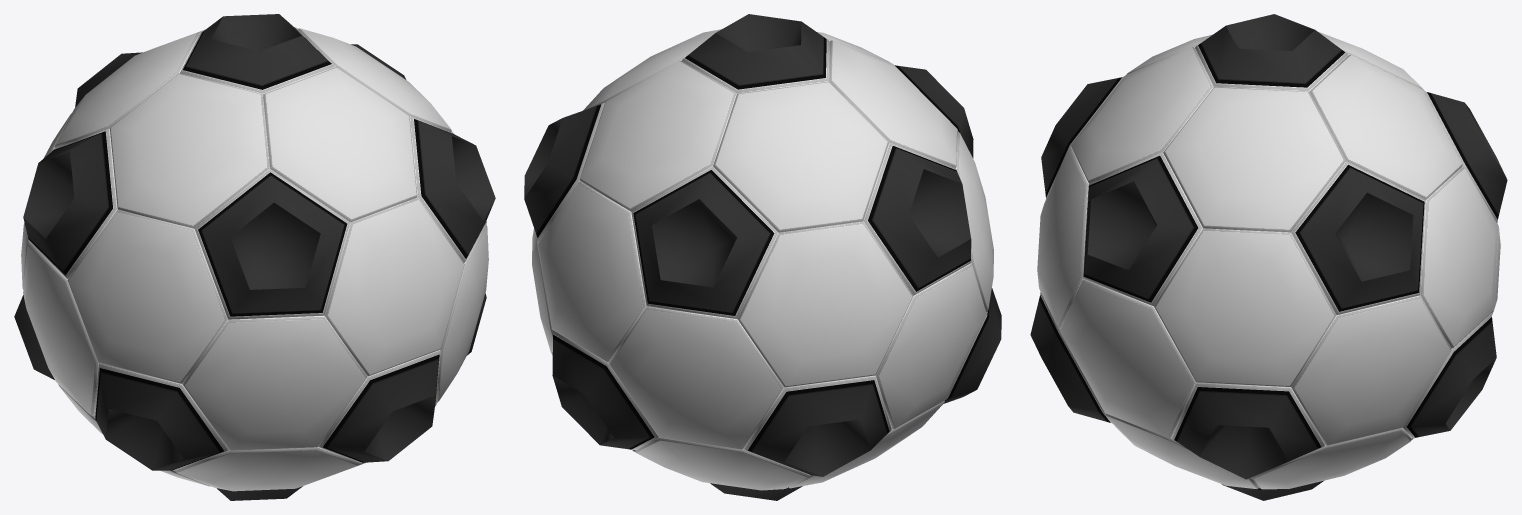
The model's file is ball.glb.
3 renders of one model, left to right at view 1: azimuth 30°, elevation 25°; view 2: azimuth 150°, elevation 25°; view 3: azimuth 270°, elevation 25°, orthographic.
Visible parts, largest first — view 1: ball; view 2: ball; view 3: ball.
Boxes of the visible parts, x1,y1,x2,y2 form: ball: (14, 14, 495, 500); ball: (524, 14, 1001, 500); ball: (1030, 14, 1507, 500).
Size of what is drawn, in the model's own units: 2.08 by 2.15 by 2.08.
Materials: 1 (1 with a texture image).
